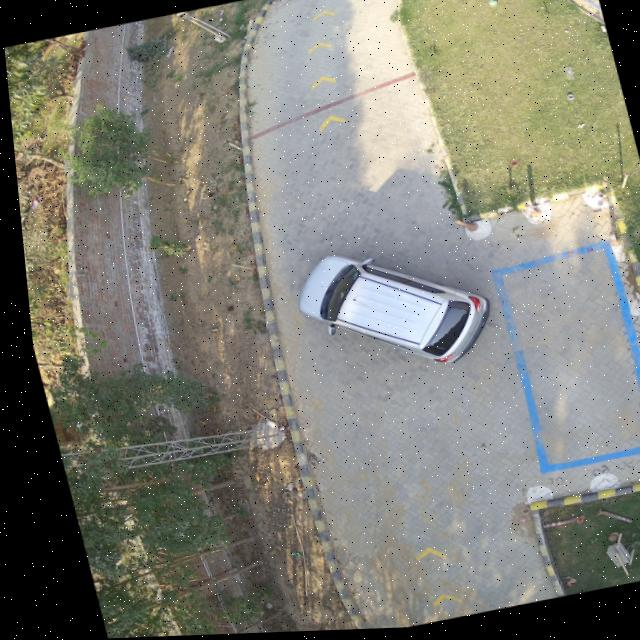car: (292, 256, 483, 365)
